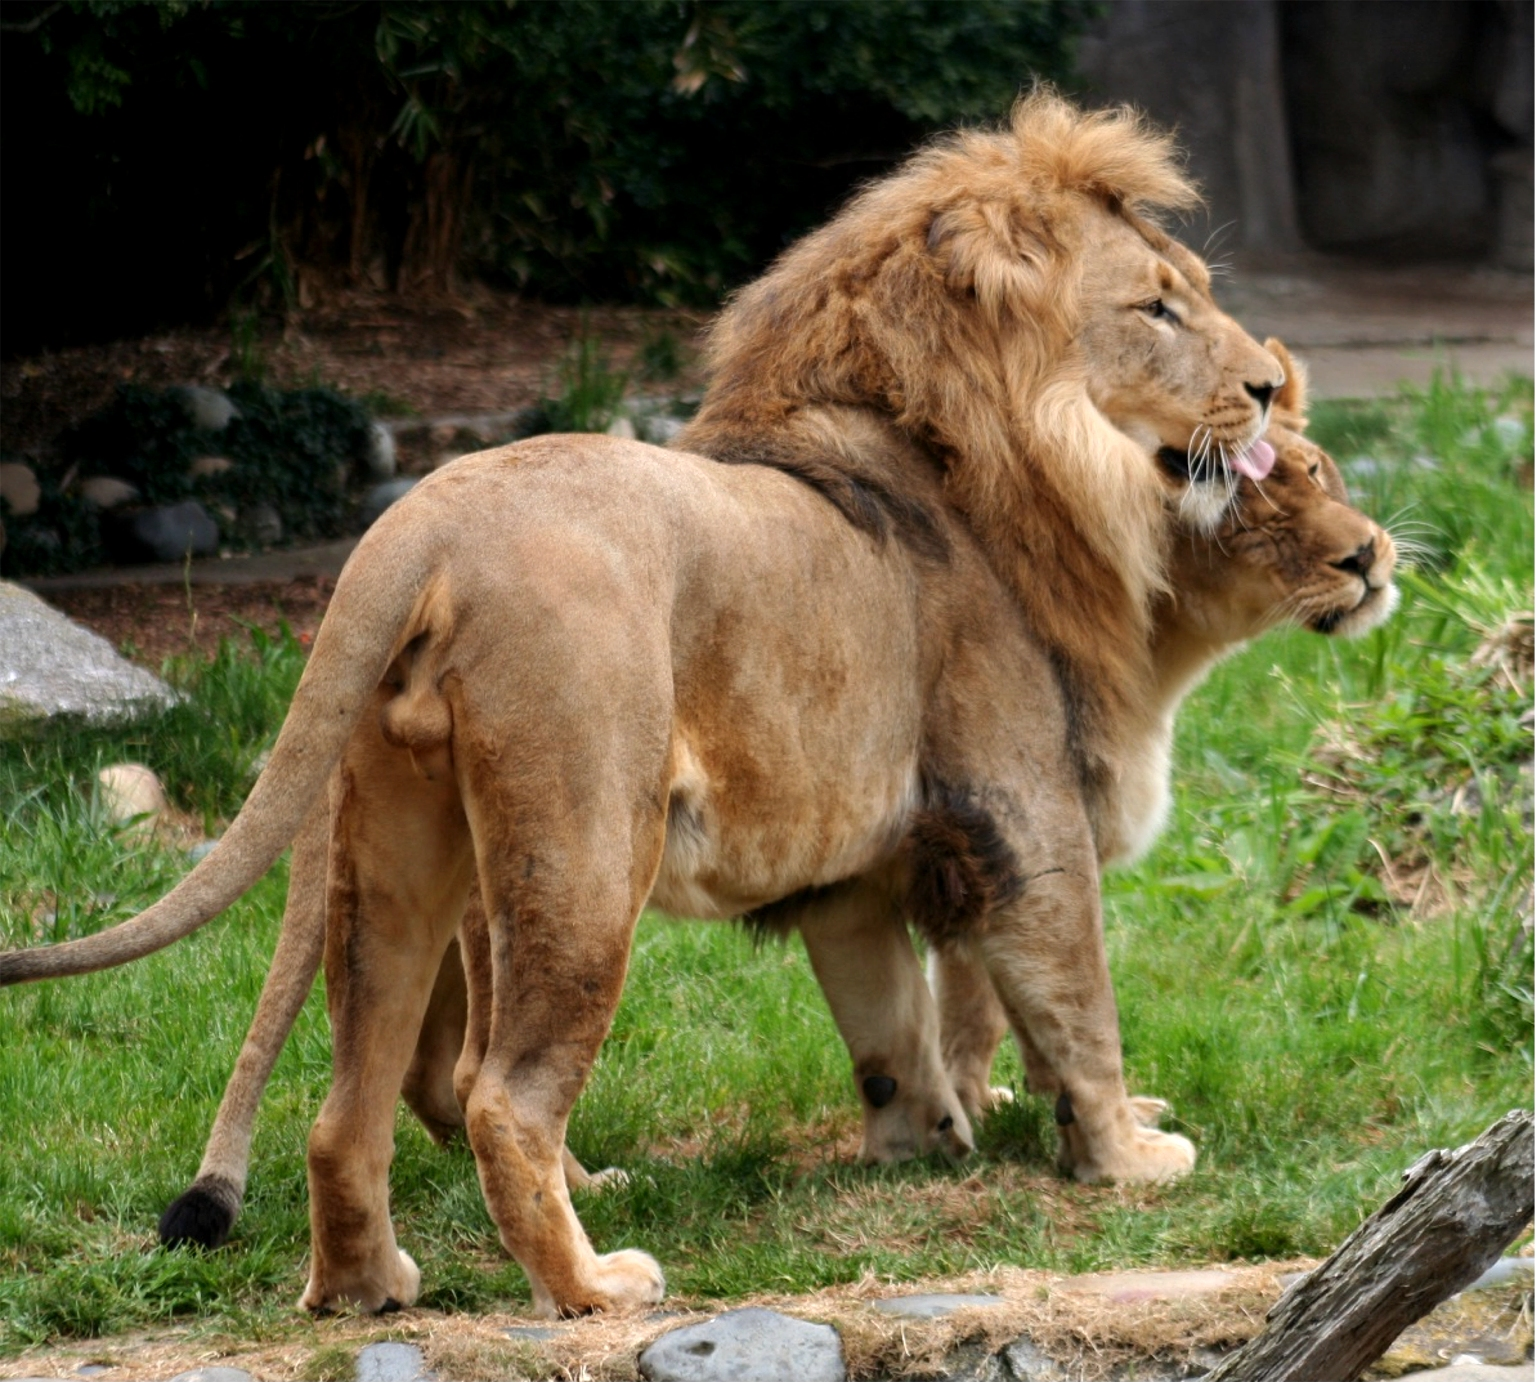lion: (1, 91, 1287, 1330), (148, 335, 1403, 1245)
